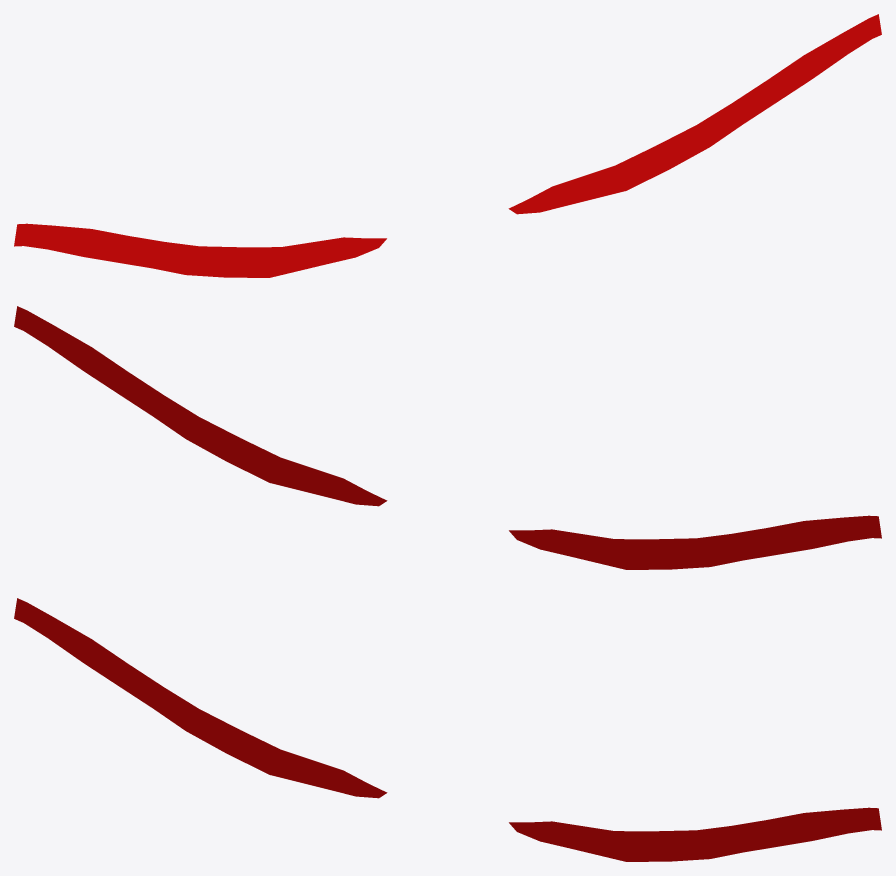
The model's file is frame147.fbx.
3 views of the same model, one above another, from view 1: azimuth 30°, elevation 25°; view 2: azimuth 150°, elevation 25°; view 3: azimuth 330°, elevation 25° (orthographic).
Visible parts, largest first — view 1: MaterialLayer; view 2: MaterialLayer; view 3: MaterialLayer.
Part boxes in pixels (x1,y1,x2,y2): MaterialLayer: (14, 14, 881, 277); MaterialLayer: (14, 306, 881, 569); MaterialLayer: (14, 598, 881, 861).
Bounding box in the file's own units: 1469 × 188 × 0.
